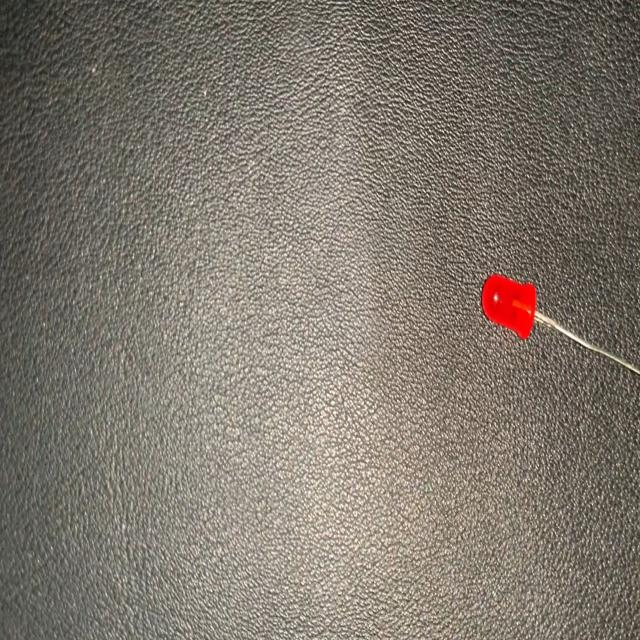LED: (479, 268, 640, 382)
